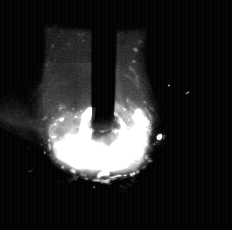arame: (92, 0, 117, 135)
poca: (49, 0, 149, 230)
